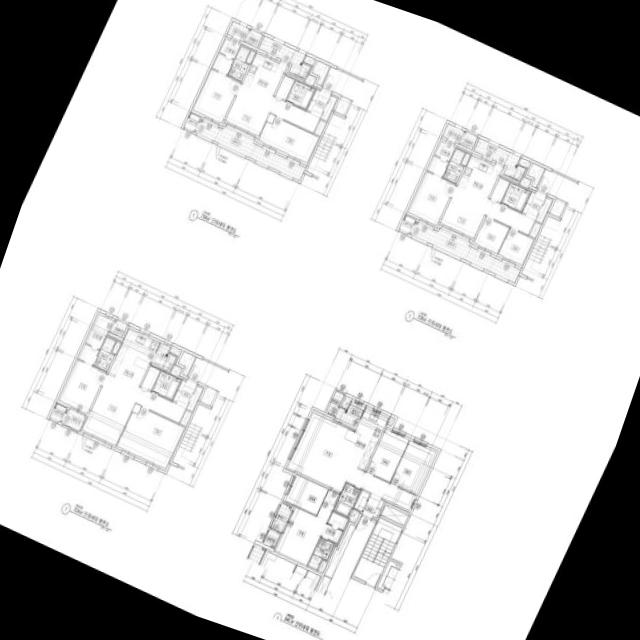background: (0, 0, 640, 640)
space_balconi: (194, 118, 304, 180), (409, 221, 520, 282), (473, 137, 525, 181), (257, 35, 309, 78), (334, 401, 364, 429), (150, 342, 175, 372), (270, 502, 291, 532), (60, 408, 84, 430), (226, 20, 248, 41), (441, 123, 463, 143)
space_bedroom: (274, 489, 339, 565), (116, 406, 183, 468), (258, 116, 317, 162), (407, 171, 455, 224), (58, 359, 105, 413), (192, 69, 239, 122), (390, 440, 435, 494), (365, 429, 408, 481), (497, 228, 533, 264), (473, 216, 508, 253)
space_dressroom: (77, 313, 112, 364), (427, 140, 454, 176), (212, 38, 239, 74), (321, 511, 347, 543)
space_front: (305, 87, 336, 120), (172, 378, 202, 411), (521, 190, 545, 219), (361, 492, 384, 518)
space_kitchen: (108, 328, 159, 386), (341, 407, 388, 469), (457, 155, 502, 198), (242, 52, 287, 95)
space_living_room: (287, 412, 415, 510), (81, 373, 185, 445), (224, 81, 319, 135), (439, 184, 534, 237)
space_multipurpose_space: (284, 474, 327, 514)
space_other: (323, 523, 355, 578), (380, 504, 408, 525), (140, 365, 160, 390), (490, 177, 509, 202), (325, 390, 343, 416), (275, 75, 294, 99), (177, 350, 195, 375), (311, 60, 329, 85), (526, 162, 544, 187), (535, 197, 551, 222), (353, 489, 369, 511), (199, 385, 216, 405), (548, 197, 565, 217), (459, 131, 477, 149), (109, 319, 127, 337), (333, 95, 350, 114), (244, 29, 261, 47), (528, 221, 540, 237), (313, 119, 325, 135), (179, 410, 190, 425), (517, 157, 530, 168), (348, 508, 358, 521), (302, 55, 315, 65), (169, 365, 180, 376), (303, 74, 314, 85), (518, 177, 529, 188), (460, 152, 469, 165), (245, 50, 254, 63), (317, 559, 326, 572), (111, 341, 120, 353), (341, 397, 350, 408), (168, 347, 179, 355), (386, 417, 392, 425)
space_outdoor_room: (262, 528, 279, 548), (183, 112, 200, 131), (398, 214, 415, 233), (48, 402, 65, 421)
space_staircase: (352, 517, 402, 585)
space_toilet: (332, 482, 360, 517), (285, 79, 314, 109), (307, 537, 333, 570), (151, 370, 180, 399), (501, 182, 529, 211), (442, 148, 464, 183), (93, 336, 115, 371), (227, 45, 249, 80)
